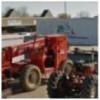tractors: (1, 32, 73, 90), (48, 48, 98, 98)
